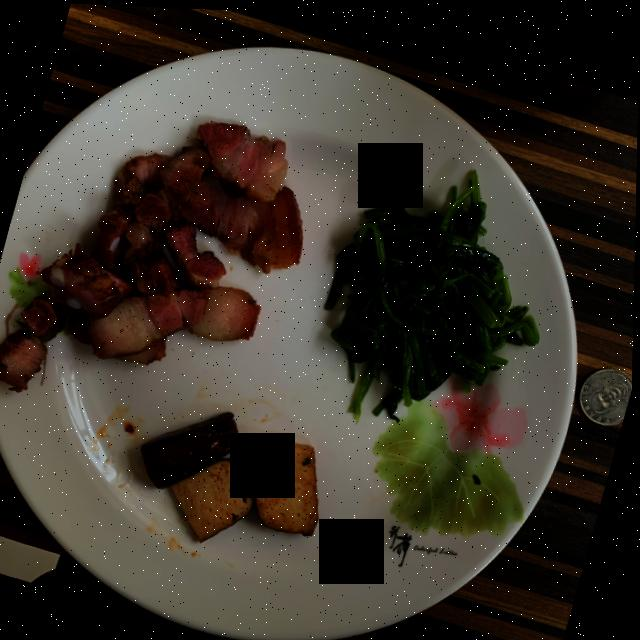coin: (581, 361, 634, 419)
firm tofu: (142, 409, 320, 539)
grilled pork: (0, 119, 303, 390)
mustard greens: (327, 165, 541, 413)
